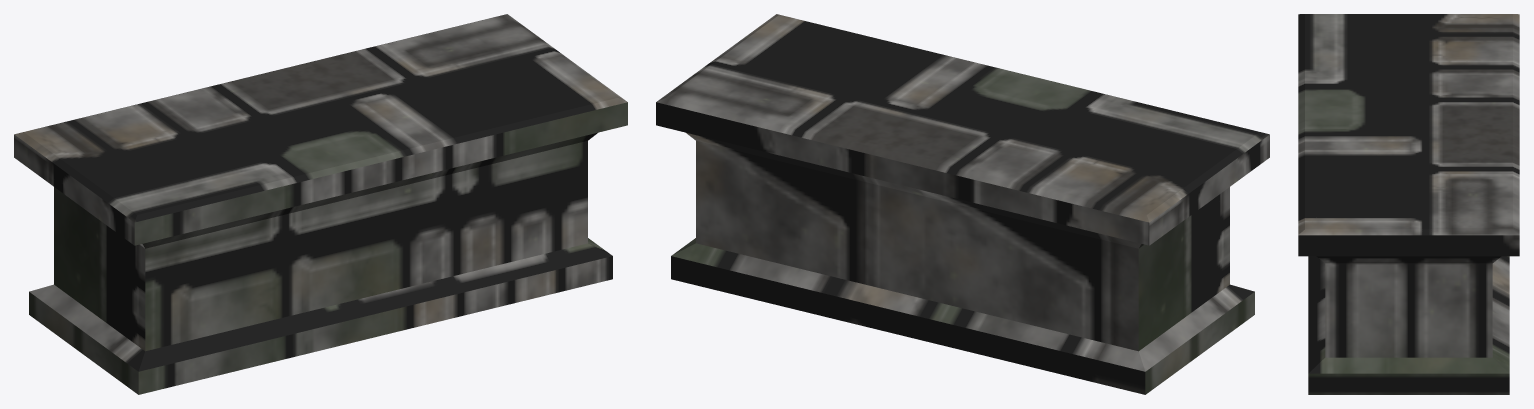
Rendered from autel.fbx.
The picture shows the model from 3 angles, left to right: view 1: azimuth 30°, elevation 25°; view 2: azimuth 150°, elevation 25°; view 3: azimuth 270°, elevation 25°; orthographic projection. The views are drawn at different scales.
Visible parts, largest first — view 1: autel; view 2: autel; view 3: autel.
Boxes of the visible parts, x1,y1,x2,y2 form: autel: (14,14,627,394); autel: (656,14,1269,394); autel: (1298,14,1519,394).
Bounding box in the file's own units: 3.12 × 1.1 × 1.32.
1 material, 1 textured.
